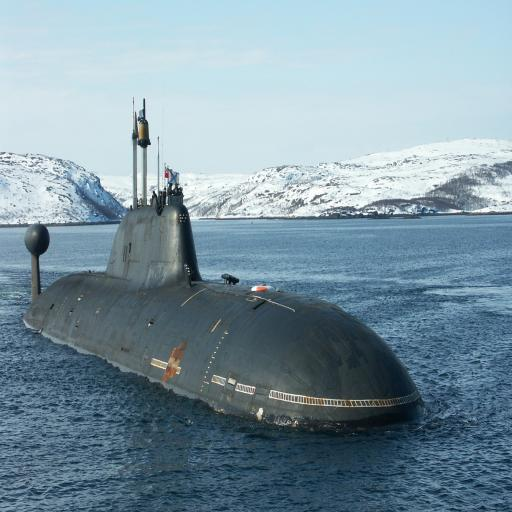submarine: (17, 95, 434, 439)
